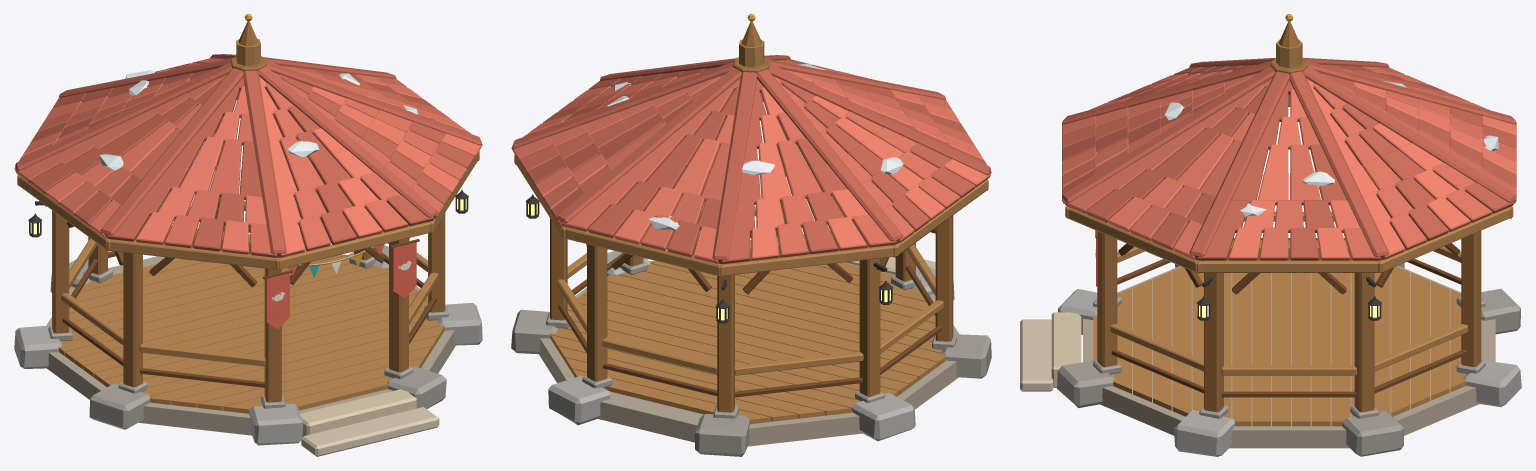
The model's file is sketch_pavilion.glb.
3 renders of one model, left to right at view 1: azimuth 30°, elevation 25°; view 2: azimuth 150°, elevation 25°; view 3: azimuth 270°, elevation 25°, orthographic. The views are drawn at different scales.
Visible parts, largest first — view 1: sketch_pavilion_roof, sketch_pavilion, part_banner_6, part_banner_5; view 2: sketch_pavilion_roof, sketch_pavilion; view 3: sketch_pavilion_roof, sketch_pavilion.
Part boxes in pixels (x1,y1,x2,y2): sketch_pavilion_roof: (14,14,482,269); sketch_pavilion: (14,91,482,456); part_banner_6: (392,242,416,298); part_banner_5: (266,273,289,329); sketch_pavilion_roof: (511,14,991,276); sketch_pavilion: (511,93,991,456); sketch_pavilion_roof: (1062,14,1516,273); sketch_pavilion: (1020,94,1521,456).
Bounding box in the file's own units: 5.61 × 4.64 × 6.07.
